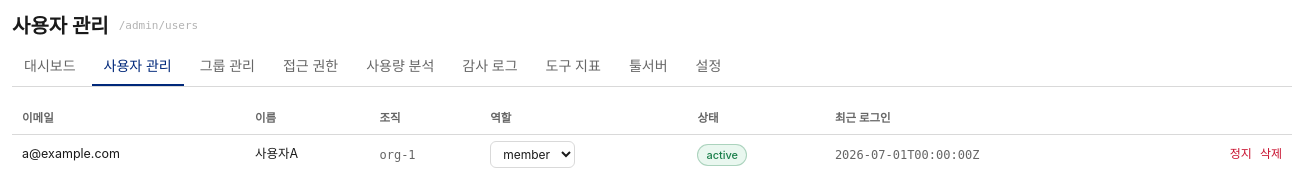
Test case: AdminUsersManager › 삭제 버튼 클릭 시 확인 후 DELETE 요청을 보내고 목록에서 제거된다
The width and height of the screenshot is (1292, 191).
Expected: the text "a@example.com" is shown, [12,135,245,174]
Click the button with aria-label "삭제 (a@example.com)".
click(1271, 154)  # box [1260,146,1282,162]
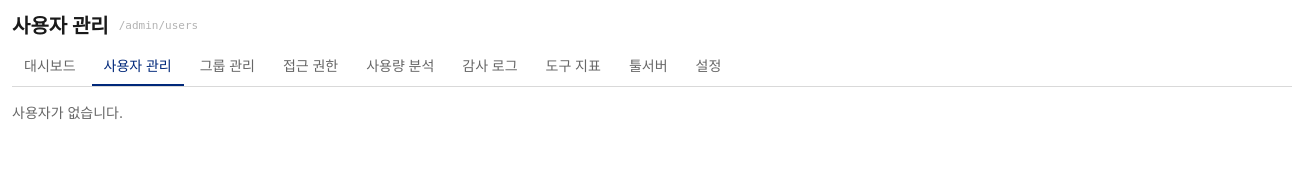
Expected: the text "a@example.com" is gone
